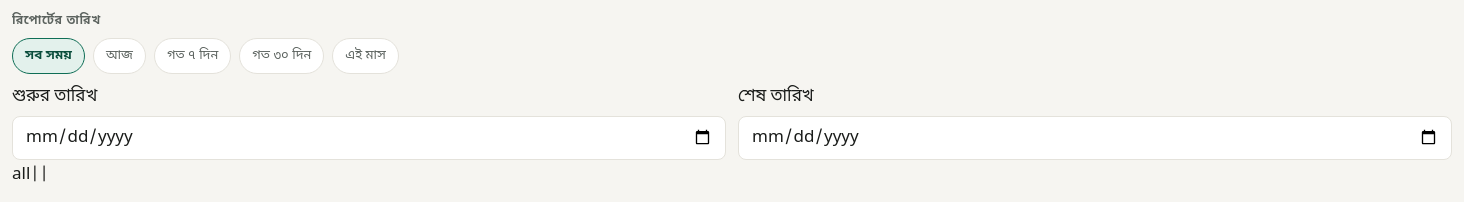
DateRangeFilter › resets to an unbounded range on "সব সময়"
Click the button "গত ৩০ দিন": coordinates (282, 56) [239, 38, 324, 74]
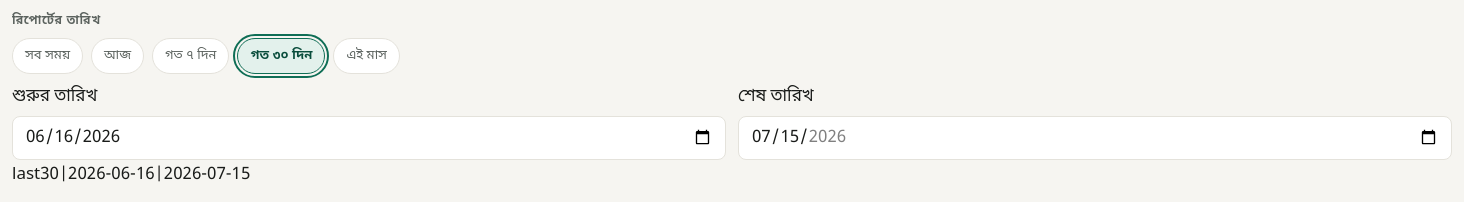
Click the button "সব সময়": coordinates (48, 56) [12, 38, 83, 74]
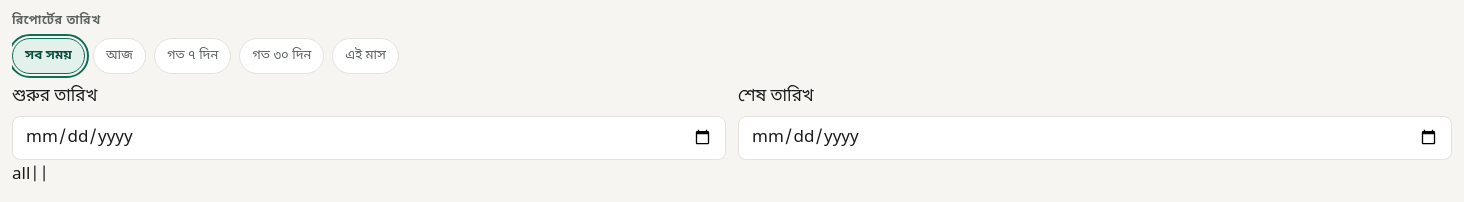
Expected: the text with test id "state" reads "all||", [12, 163, 49, 186]
